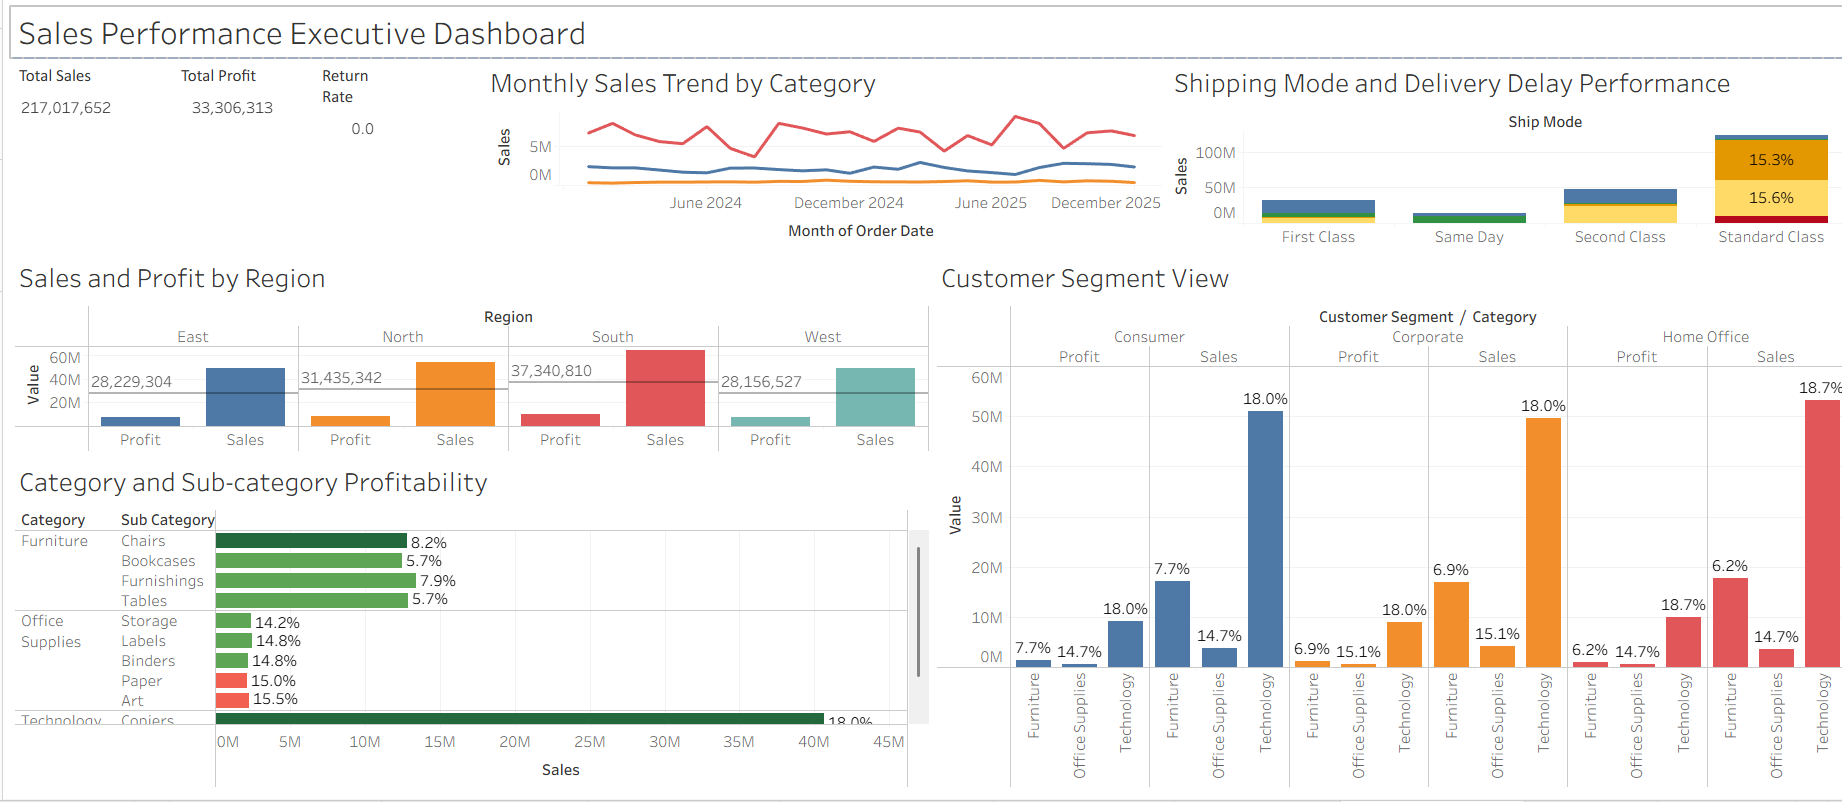

The dashboard page shown, as its layout file describes it:
{"tool":"tableau","page":{"name":"Executive Dashboard","canvas":[1000,1000],"units":"permille","ordinal":0},"visuals":[{"type":"title","box":[4.2,10,909.4,62.4]},{"type":"filter","title":"Sales Trend View","param":"[federated.1woflc01fgkei51bctz091ogqvy9].[none:region:nk]","box":[913.7,10,82.1,188.5]},{"type":"worksheet","title":"KPI - Total Sales","mark":"Text","box":[4.2,72.4,80.1,243.3]},{"type":"worksheet","title":"KPI - Total Profit","mark":"Automatic","box":[84.3,72.4,69.6,243.3]},{"type":"worksheet","title":"KPI - Return Rate","mark":"Automatic","box":[153.9,72.4,83,243.3]},{"type":"worksheet","title":"Sales Trend View","mark":"Automatic","rows":["sales"],"cols":["order_date"],"box":[236.9,72.4,338.3,243.3]},{"type":"worksheet","title":"Shipping Performance View","mark":"Bar","rows":["sales"],"cols":["ship_mode"],"box":[575.2,72.4,338.4,243.3]},{"type":"filter","title":"Sales Trend View","param":"[federated.1woflc01fgkei51bctz091ogqvy9].[none:category:nk]","box":[913.7,198.5,82.1,159.8]},{"type":"worksheet","title":"Regional Performance View","mark":"Automatic","cols":["region"],"box":[4.2,315.7,455.4,254.7]},{"type":"worksheet","title":"Customer Segment View","mark":"Automatic","cols":["customer_segment","category"],"box":[459.7,315.7,454,674.3]},{"type":"filter","title":"Sales Trend View","param":"[federated.1woflc01fgkei51bctz091ogqvy9].[none:customer_segment:nk]","box":[913.7,358.3,82.1,159.8]},{"type":"filter","title":"Sales Trend View","param":"[federated.1woflc01fgkei51bctz091ogqvy9].[tmn:order_date:qk]","box":[913.7,518.1,82.1,91.1]},{"type":"worksheet","title":"Category Profitability View","mark":"Automatic","rows":["category","sub_category"],"cols":["sales"],"box":[4.2,570.4,455.4,419.6]},{"type":"filter","title":"Sales Trend View","param":"[federated.1woflc01fgkei51bctz091ogqvy9].[none:ship_mode:nk]","box":[913.7,609.2,82.1,188.5]}]}

Visuals, with their boxes on the dashboard's canvas, which has no fixed pixel size, in thousandths of its width and height (x1, y1, x2, y2). These are canvas units, not pixel positions in the 1842x802 screenshot, which may show the page scaled, cropped or inside an application window:
title: {"x1": 4, "y1": 10, "x2": 914, "y2": 72}
"Sales Trend View" filter: {"x1": 914, "y1": 10, "x2": 996, "y2": 198}
"KPI - Total Sales" worksheet (Text marks): {"x1": 4, "y1": 72, "x2": 84, "y2": 316}
"KPI - Total Profit" worksheet: {"x1": 84, "y1": 72, "x2": 154, "y2": 316}
"KPI - Return Rate" worksheet: {"x1": 154, "y1": 72, "x2": 237, "y2": 316}
"Sales Trend View" worksheet: {"x1": 237, "y1": 72, "x2": 575, "y2": 316}
"Shipping Performance View" worksheet (Bar marks): {"x1": 575, "y1": 72, "x2": 914, "y2": 316}
"Sales Trend View" filter: {"x1": 914, "y1": 198, "x2": 996, "y2": 358}
"Regional Performance View" worksheet: {"x1": 4, "y1": 316, "x2": 460, "y2": 570}
"Customer Segment View" worksheet: {"x1": 460, "y1": 316, "x2": 914, "y2": 990}
"Sales Trend View" filter: {"x1": 914, "y1": 358, "x2": 996, "y2": 518}
"Sales Trend View" filter: {"x1": 914, "y1": 518, "x2": 996, "y2": 609}
"Category Profitability View" worksheet: {"x1": 4, "y1": 570, "x2": 460, "y2": 990}
"Sales Trend View" filter: {"x1": 914, "y1": 609, "x2": 996, "y2": 798}
